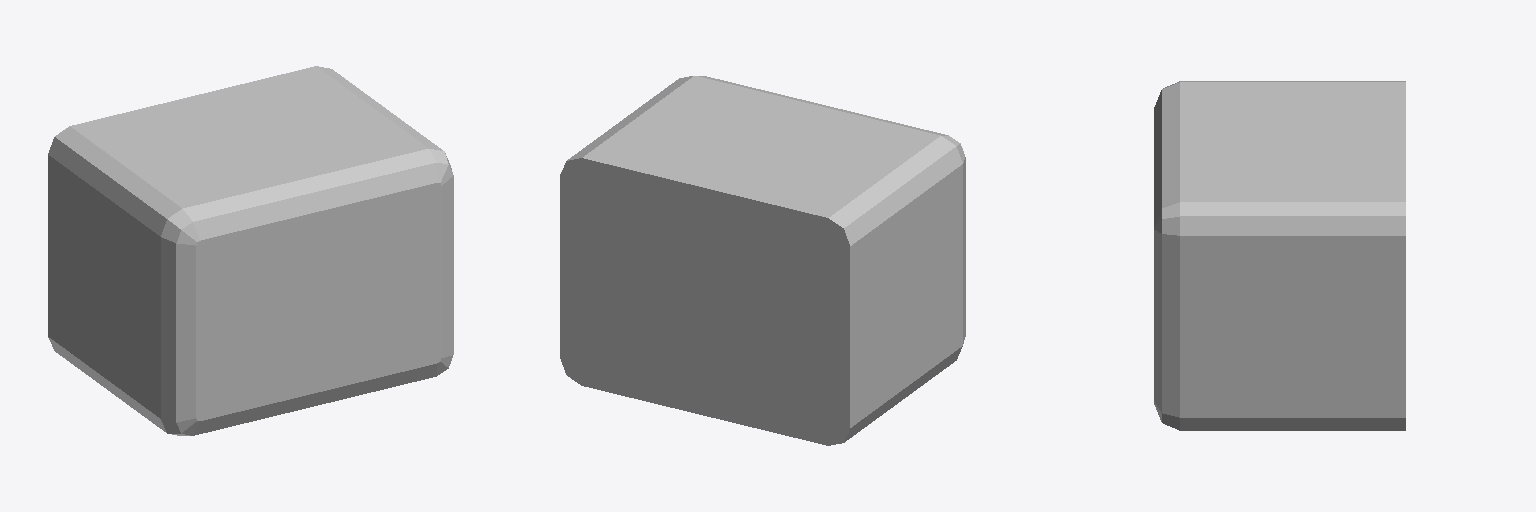
The model's file is 100_ShortRectangle.obj.
The picture shows the model from 3 angles: view 1: azimuth 30°, elevation 25°; view 2: azimuth 150°, elevation 25°; view 3: azimuth 270°, elevation 25°; orthographic projection.
Parts seen in each view (by area): view 1: ShortRectangle_Plane.867; view 2: ShortRectangle_Plane.867; view 3: ShortRectangle_Plane.867.
Part boxes in pixels (left/top/right/bottom): ShortRectangle_Plane.867: left=48, top=66, right=453, bottom=435; ShortRectangle_Plane.867: left=560, top=76, right=965, bottom=445; ShortRectangle_Plane.867: left=1154, top=81, right=1405, bottom=430.
Bounding box in the file's own units: 4 × 3 × 3.